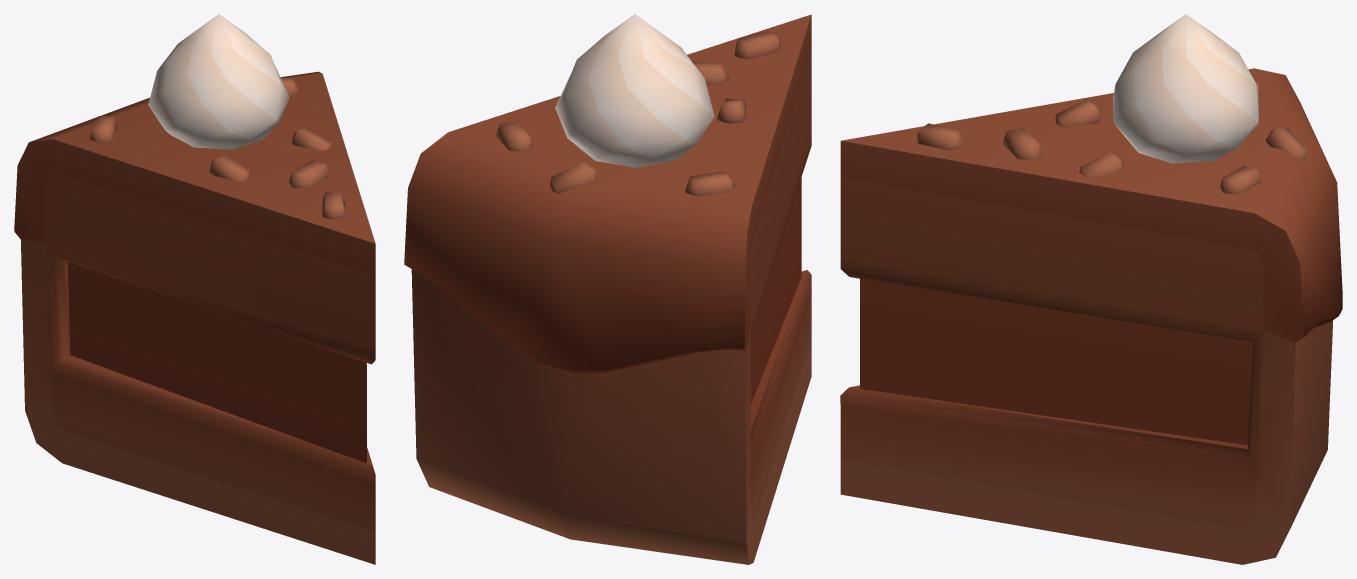
Rendered from cake_chocolate_slice.obj.
3 renders of one model, left to right at view 1: azimuth 30°, elevation 25°; view 2: azimuth 150°, elevation 25°; view 3: azimuth 270°, elevation 25°, orthographic. The views are drawn at different scales.
Visible parts, largest first — view 1: cake_chocolate_slice; view 2: cake_chocolate_slice; view 3: cake_chocolate_slice.
Part boxes in pixels (x1,y1,x2,y2): cake_chocolate_slice: [14, 14, 375, 564]; cake_chocolate_slice: [404, 14, 811, 564]; cake_chocolate_slice: [840, 14, 1342, 564].
Bounding box in the file's own units: 0.4668 × 0.6442 × 0.6102.
1 material, 1 textured.
